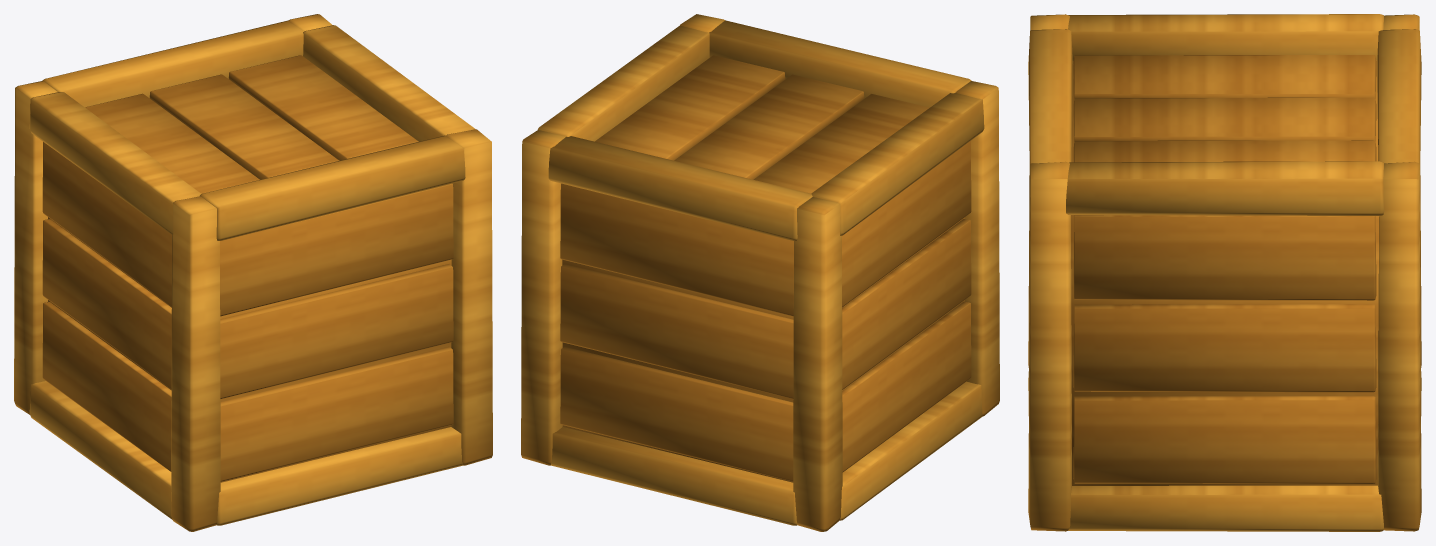
Rendered from 10_crate_gold_top.glb.
3 views of the same model, side by side, from view 1: azimuth 30°, elevation 25°; view 2: azimuth 150°, elevation 25°; view 3: azimuth 270°, elevation 25° (orthographic). The views are drawn at different scales.
Parts seen in each view (by area): view 1: SideSlatZ_1_1, SideSlatZ_0_1, SideSlatZ_2_1, CornerPost_-1_1, RailX_1_1, CornerPost_1_1, SideSlatX_1_-1, SideSlatX_0_-1, RailX_-1_1, SideSlatX_2_-1, TopRecessedSlat_2, RailX_1_-1 (+7 smaller); view 2: SideSlatZ_1_-1, SideSlatZ_0_-1, SideSlatZ_2_-1, CornerPost_-1_-1, RailX_1_-1, CornerPost_1_-1, SideSlatX_1_-1, SideSlatX_0_-1, RailX_-1_-1, SideSlatX_2_-1, RailX_1_1, RailZ_1_-1 (+7 smaller); view 3: SideSlatX_1_1, SideSlatX_0_1, SideSlatX_2_1, RailZ_1_1, CornerPost_1_1, CornerPost_1_-1, RailZ_-1_1, TopRecessedSlat_1, TopRecessedSlat_0, RailZ_1_-1, TopRecessedSlat_2, RailX_1_1 (+4 smaller).
Boxes of the visible parts, x1=… form: SideSlatZ_1_1: x1=220, y1=264, x2=453, y2=398; SideSlatZ_0_1: x1=220, y1=346, x2=453, y2=481; SideSlatZ_2_1: x1=220, y1=183, x2=453, y2=316; CornerPost_-1_1: x1=171, y1=196, x2=220, y2=531; RailX_1_1: x1=200, y1=135, x2=465, y2=240; CornerPost_1_1: x1=446, y1=129, x2=492, y2=465; SideSlatX_1_-1: x1=42, y1=219, x2=171, y2=389; SideSlatX_0_-1: x1=42, y1=302, x2=171, y2=471; RailX_-1_1: x1=217, y1=427, x2=463, y2=525; SideSlatX_2_-1: x1=42, y1=142, x2=171, y2=306; TopRecessedSlat_2: x1=228, y1=55, x2=418, y2=160; RailX_1_-1: x1=42, y1=20, x2=303, y2=107; SideSlatZ_1_-1: x1=560, y1=264, x2=793, y2=398; SideSlatZ_0_-1: x1=560, y1=347, x2=793, y2=481; SideSlatZ_2_-1: x1=560, y1=183, x2=793, y2=316; CornerPost_-1_-1: x1=793, y1=197, x2=842, y2=531; RailX_1_-1: x1=548, y1=136, x2=812, y2=240; CornerPost_1_-1: x1=521, y1=130, x2=565, y2=465; SideSlatX_1_-1: x1=842, y1=219, x2=971, y2=389; SideSlatX_0_-1: x1=842, y1=301, x2=971, y2=472; RailX_-1_-1: x1=550, y1=427, x2=797, y2=525; SideSlatX_2_-1: x1=842, y1=141, x2=971, y2=307; RailX_1_1: x1=709, y1=20, x2=971, y2=107; RailZ_1_-1: x1=811, y1=92, x2=984, y2=235; SideSlatX_1_1: x1=1073, y1=304, x2=1376, y2=392; SideSlatX_0_1: x1=1073, y1=396, x2=1376, y2=483; SideSlatX_2_1: x1=1073, y1=215, x2=1376, y2=300; RailZ_1_1: x1=1066, y1=161, x2=1384, y2=215; CornerPost_1_1: x1=1028, y1=162, x2=1071, y2=531; CornerPost_1_-1: x1=1378, y1=162, x2=1421, y2=531; RailZ_-1_1: x1=1068, y1=485, x2=1383, y2=531; TopRecessedSlat_1: x1=1073, y1=97, x2=1376, y2=140; TopRecessedSlat_0: x1=1073, y1=55, x2=1376, y2=97; RailZ_1_-1: x1=1068, y1=14, x2=1383, y2=60; TopRecessedSlat_2: x1=1073, y1=140, x2=1376, y2=162; RailX_1_1: x1=1028, y1=29, x2=1072, y2=196.
Size of the model in its own units: 0.66 by 0.66 by 0.66.
Materials: 2 (2 with a texture image).
